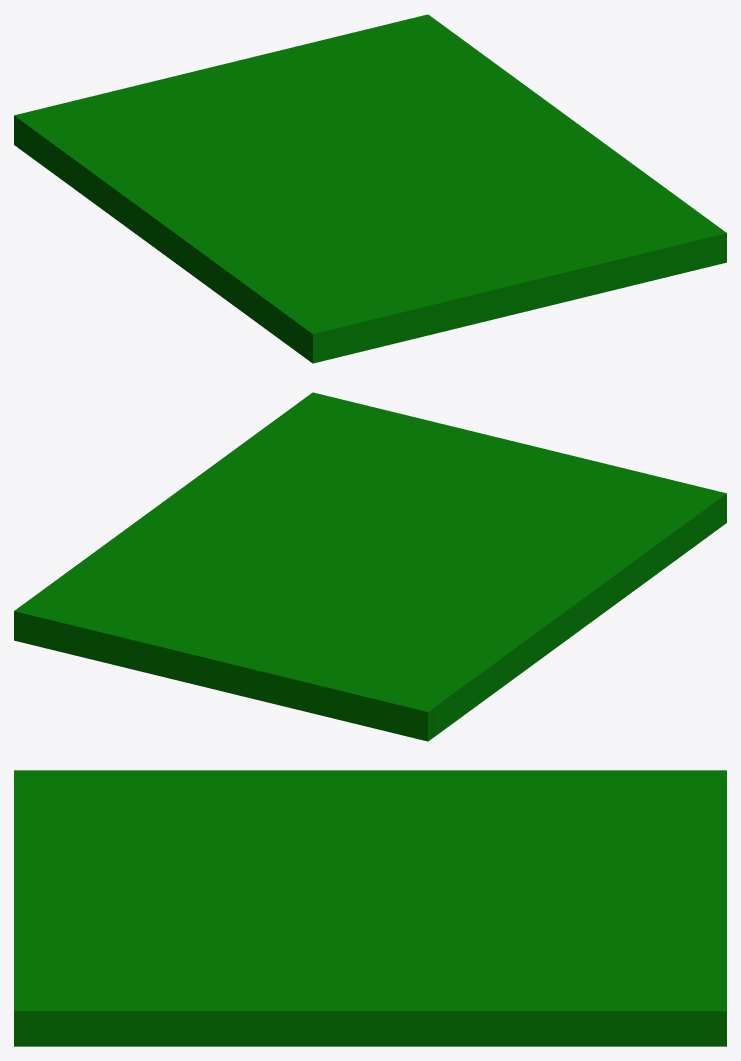
File: Museum Layouts.obj
3 renders of one model, top to bottom at view 1: azimuth 30°, elevation 25°; view 2: azimuth 150°, elevation 25°; view 3: azimuth 270°, elevation 25°, orthographic. The views are drawn at different scales.
Parts seen in each view (by area): view 1: object_48, object_44, object_86, object_42, object_41, object_47; view 2: object_48, object_44, object_85, object_5, object_6, object_82, object_47; view 3: object_48, object_83, object_47.
Part boxes in pixels (x1,y1,x2,y2): object_48: (14,14,726,334); object_44: (19,120,321,362); object_86: (322,245,688,360); object_42: (321,289,501,360); object_41: (538,236,717,307); object_47: (14,144,726,363); object_48: (14,392,726,712); object_44: (433,494,726,736); object_85: (150,646,432,740); object_5: (23,614,202,685); object_6: (239,667,419,738); object_82: (14,612,120,665); object_47: (14,522,726,741); object_48: (14,770,726,1012); object_83: (14,1012,714,1045); object_47: (14,1046,726,1046).
Size of the model in its own units: 41.82 by 2.84 by 52.26.
